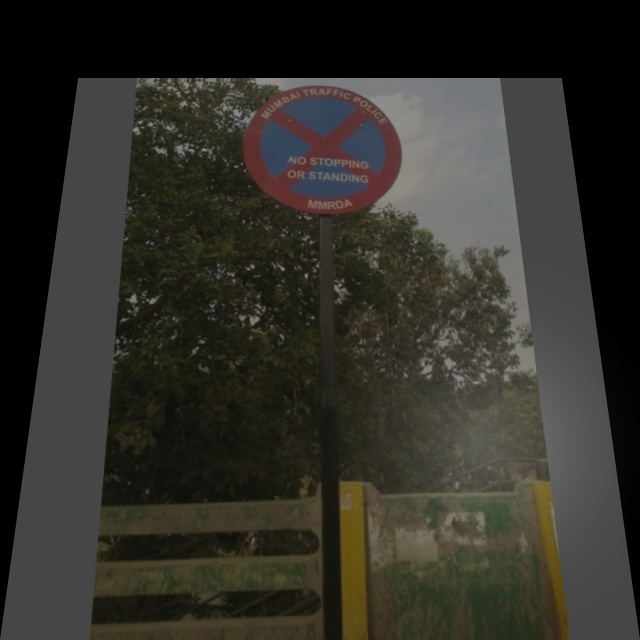No_Stopping_or_Standing: (239, 81, 412, 224)
